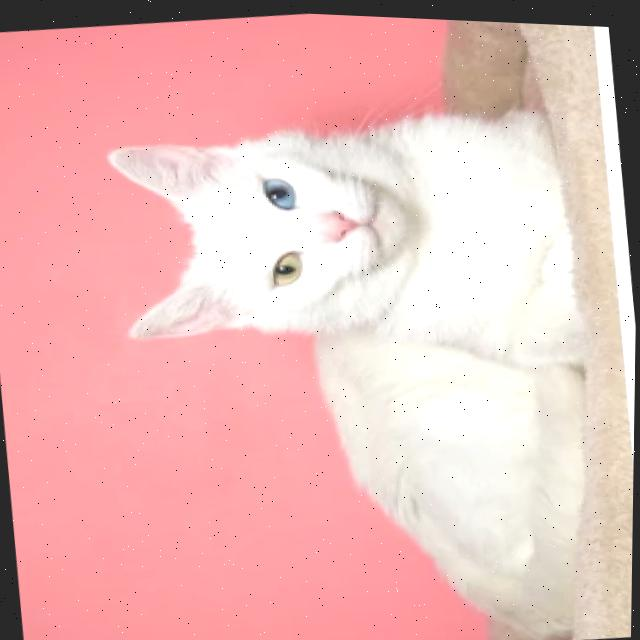Khao Manee: (90, 78, 615, 640)
